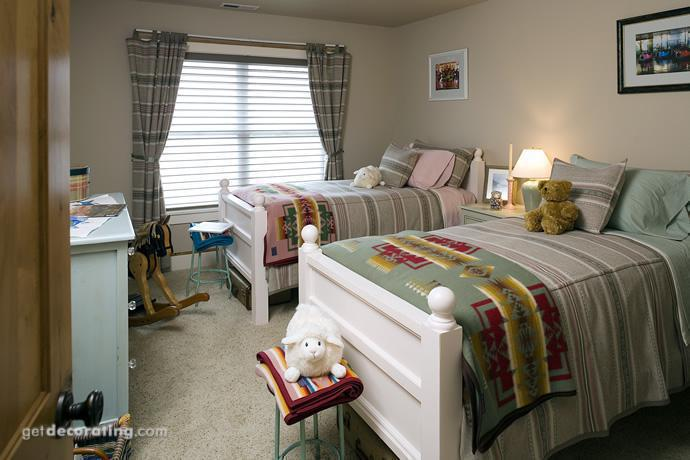Cama: (303, 163, 683, 425), (231, 151, 460, 242)
Otro Obstaculo: (130, 222, 213, 328)
Puerta: (0, 7, 71, 457)
